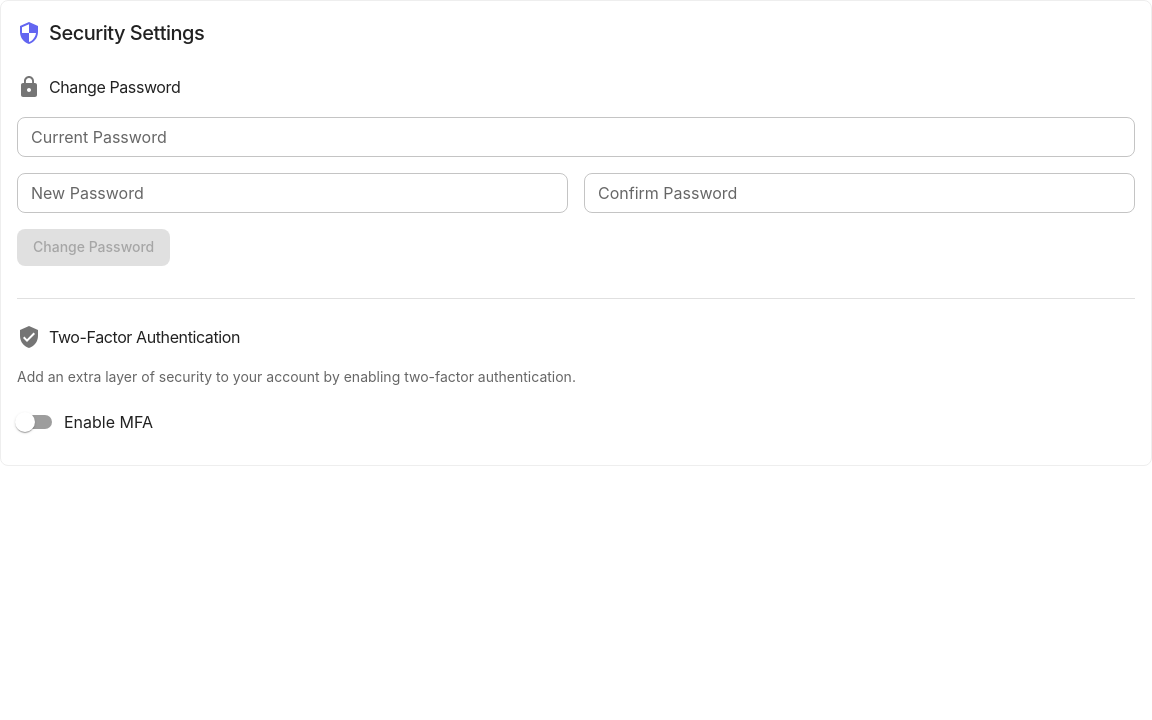
SecuritySettings › password change › shows validation error when passwords do not match
Type "OldPassword123" into the password field labelled "Current Password" at (576, 137), box [17,117,1135,157]
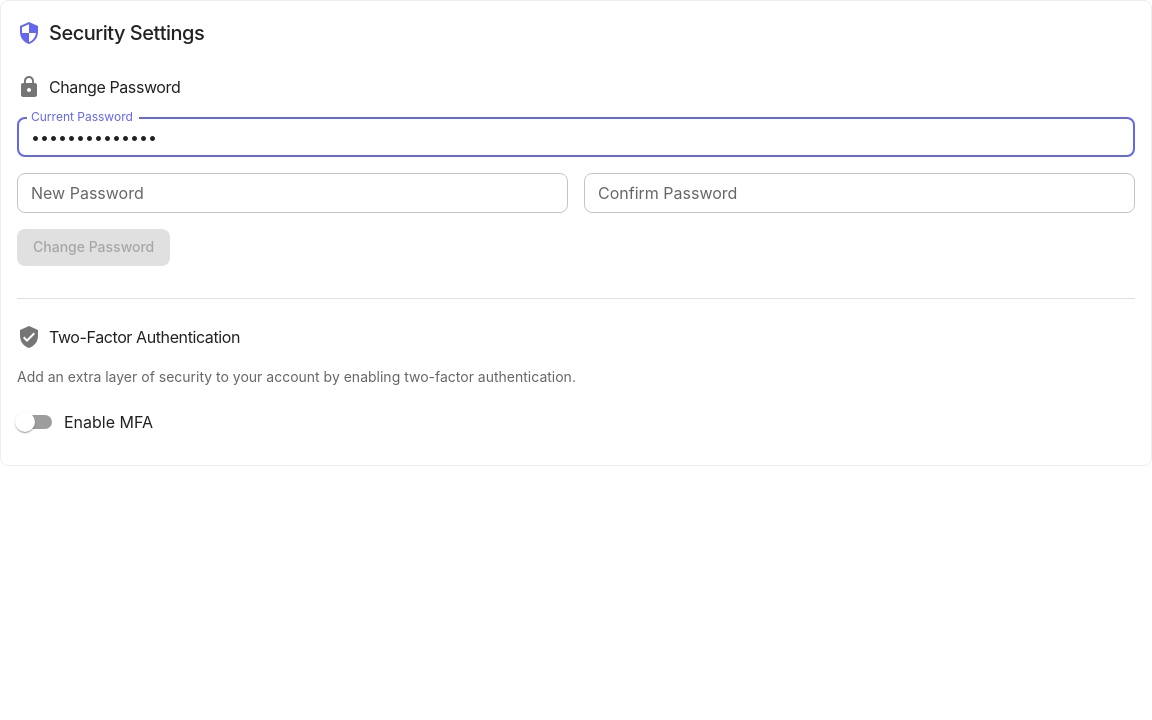
Type "NewPassword123" into the password field labelled "New Password" at (292, 193), box [17,173,568,213]
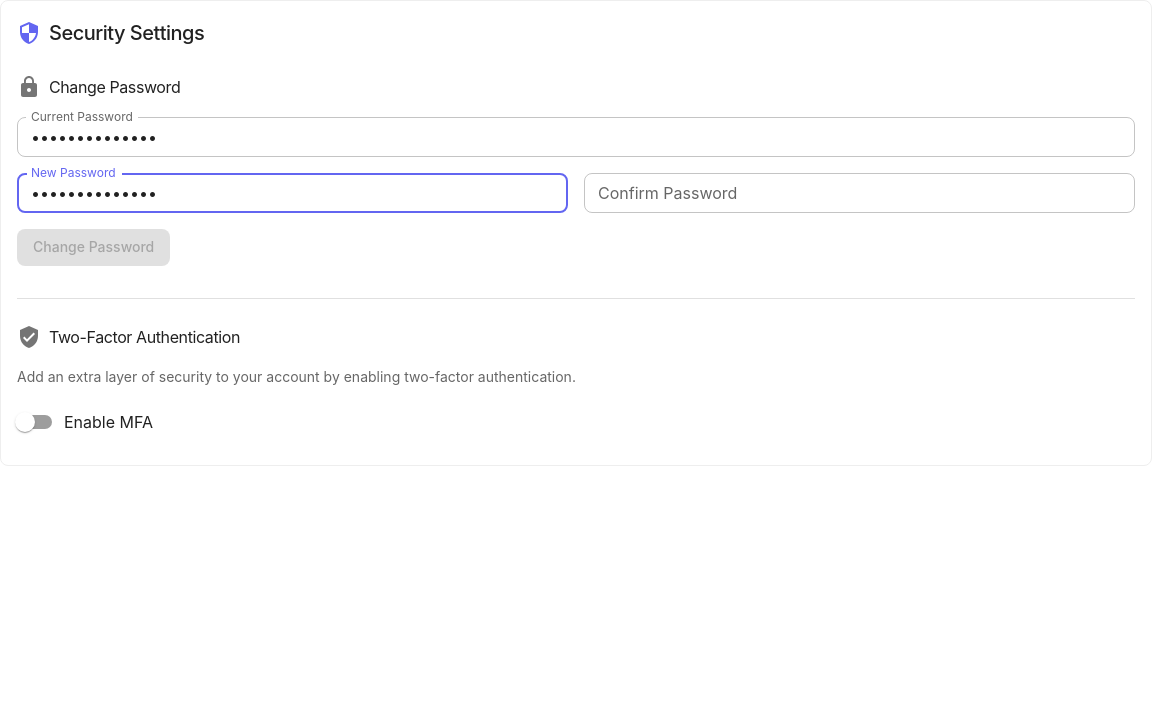
Type "DifferentPassword123" into the password field labelled "Confirm Password" at (860, 193), box [584,173,1135,213]
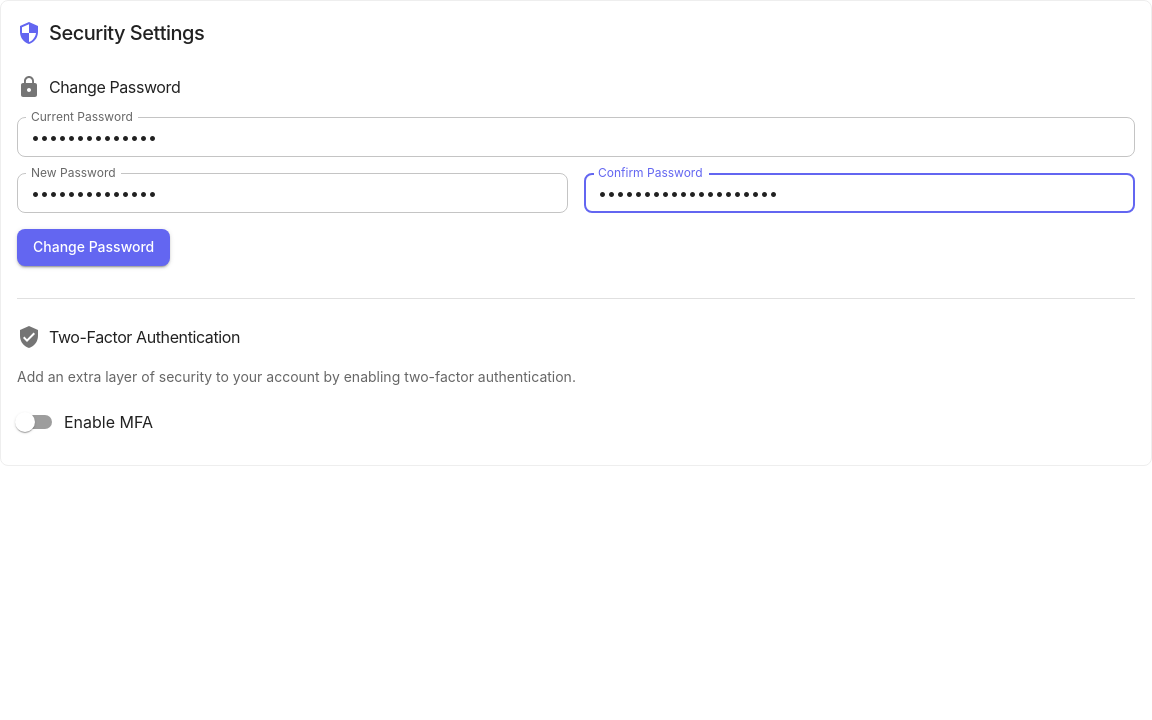
Click the button "Change Password" at (94, 247), box [17,229,170,266]
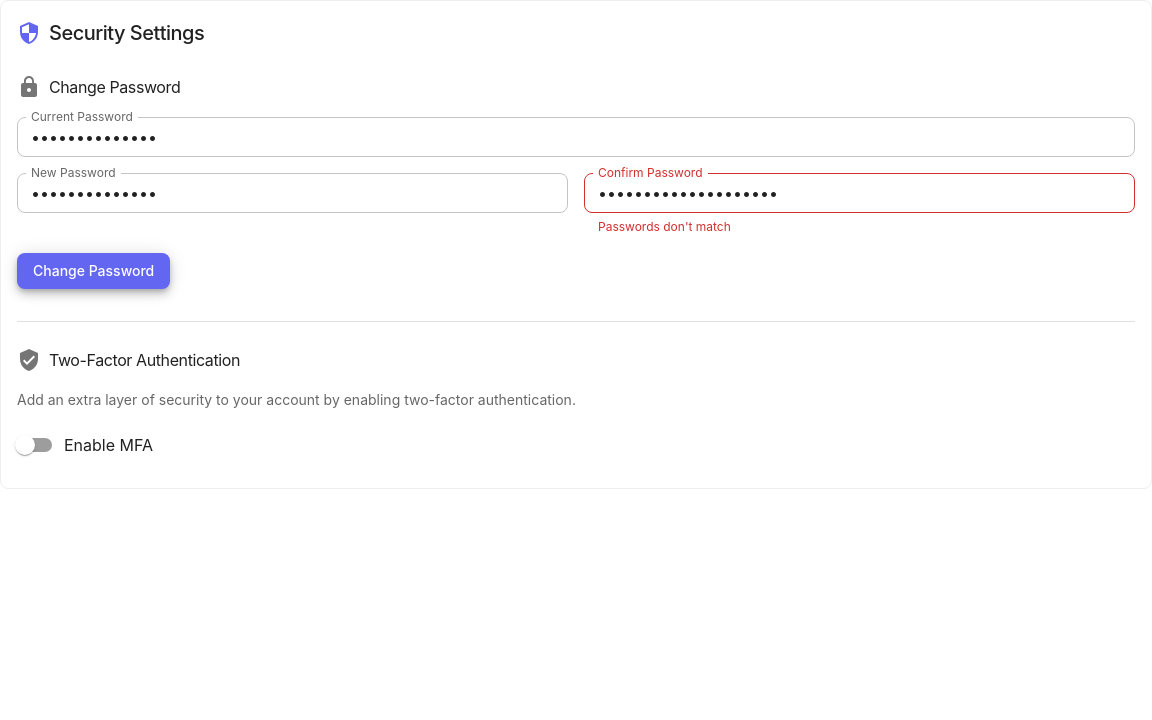
Check: the text "Passwords don't match" is shown, box [598,219,731,234]
